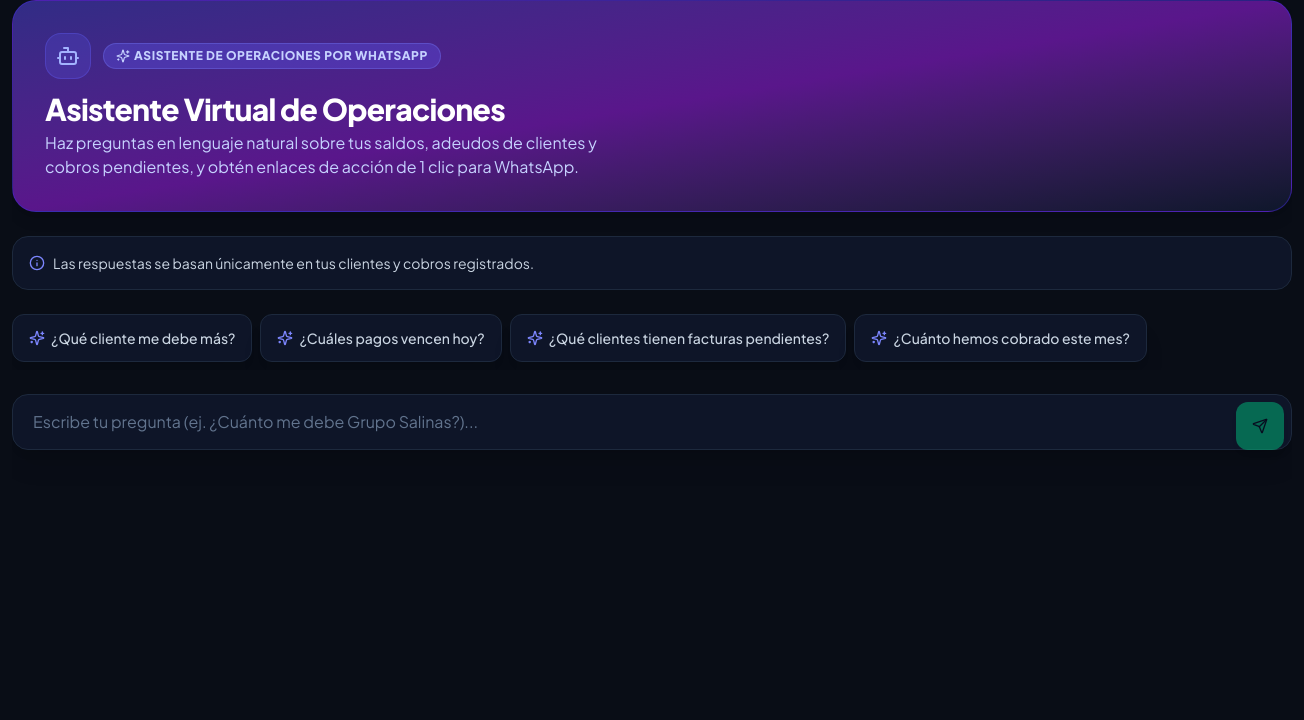
Test case: a real tenant’s question is answered from their own records › asks the API and renders what it returned
Type "¿Qué cliente me debe más?" into the field with placeholder "Escribe tu pregunta (ej. ¿Cuánto me debe Grupo Salinas?)...".
click(652, 422); type("¿Qué cliente me debe más?")  # box [12,394,1292,450]
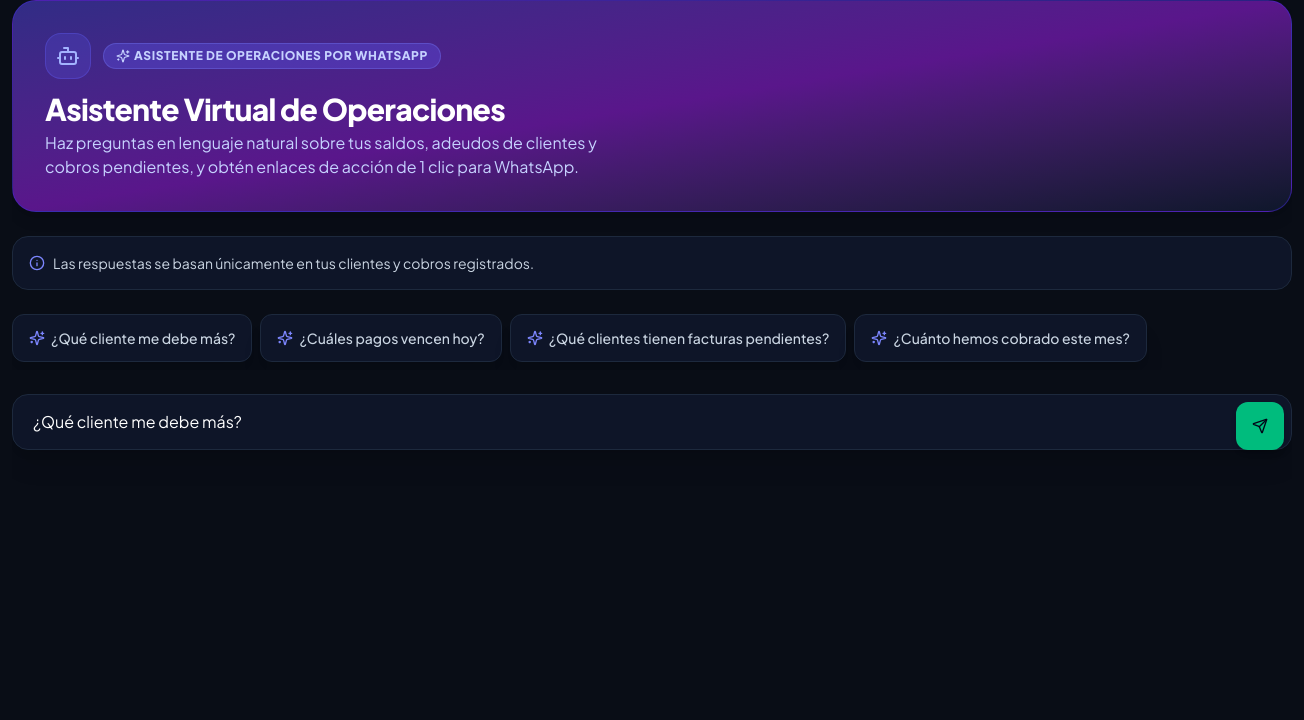
Click the button named "Enviar pregunta".
click(1260, 426)  # box [1236,402,1284,450]
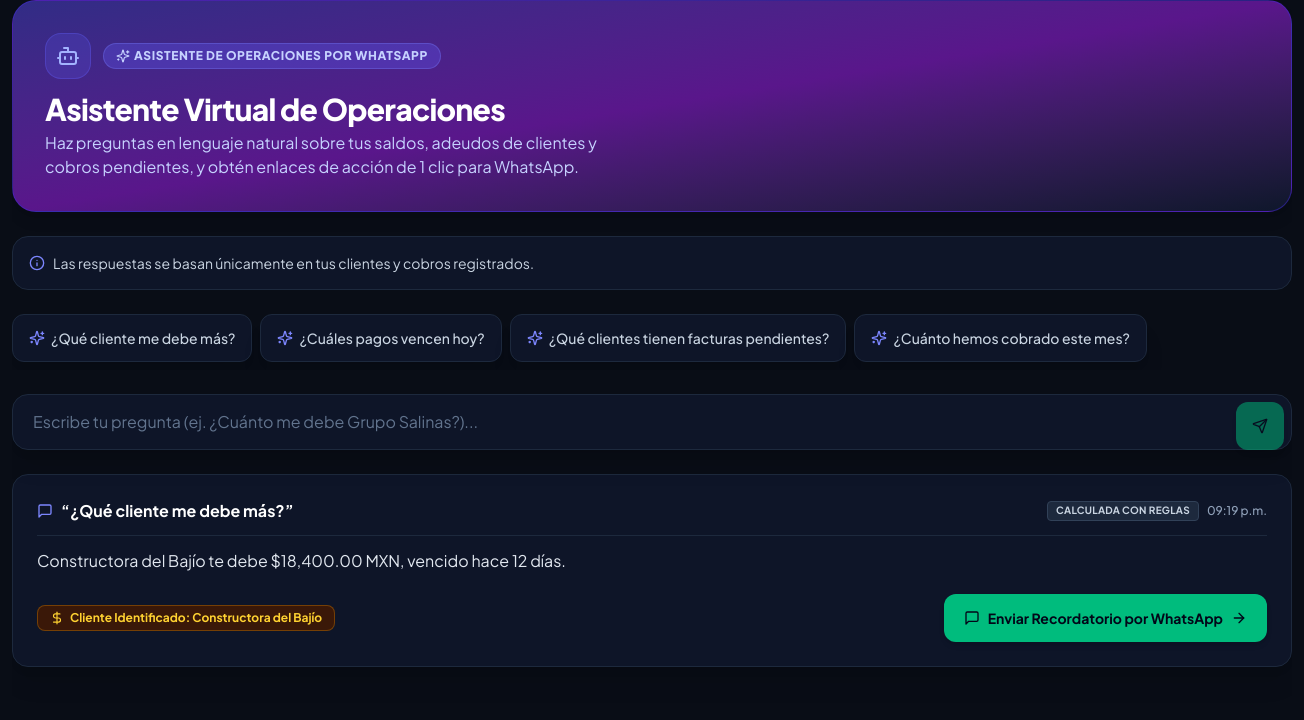
Expected: the text "Las respuestas se basan únicamente en tus clientes" is shown, [53,254,534,272]
Expected: the text "Constructora del Bajío te debe $18,400.00 MXN" is shown, [37,550,566,571]
Expected: the text "Calculada con reglas" is shown, [1047,501,1199,521]
